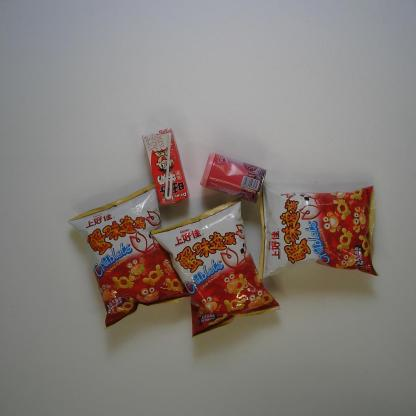Canned Food: (198, 152, 271, 206)
Milk: (141, 124, 194, 209)
Puffed Food: (66, 178, 195, 330), (150, 196, 284, 340), (250, 180, 382, 283)
